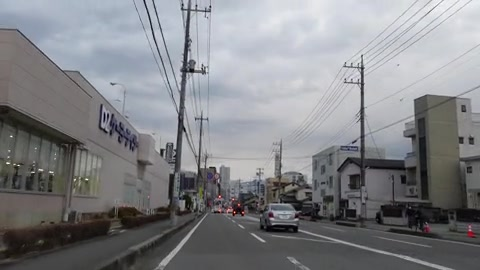traffic_sign: (213, 173, 221, 180), (207, 171, 213, 180)
